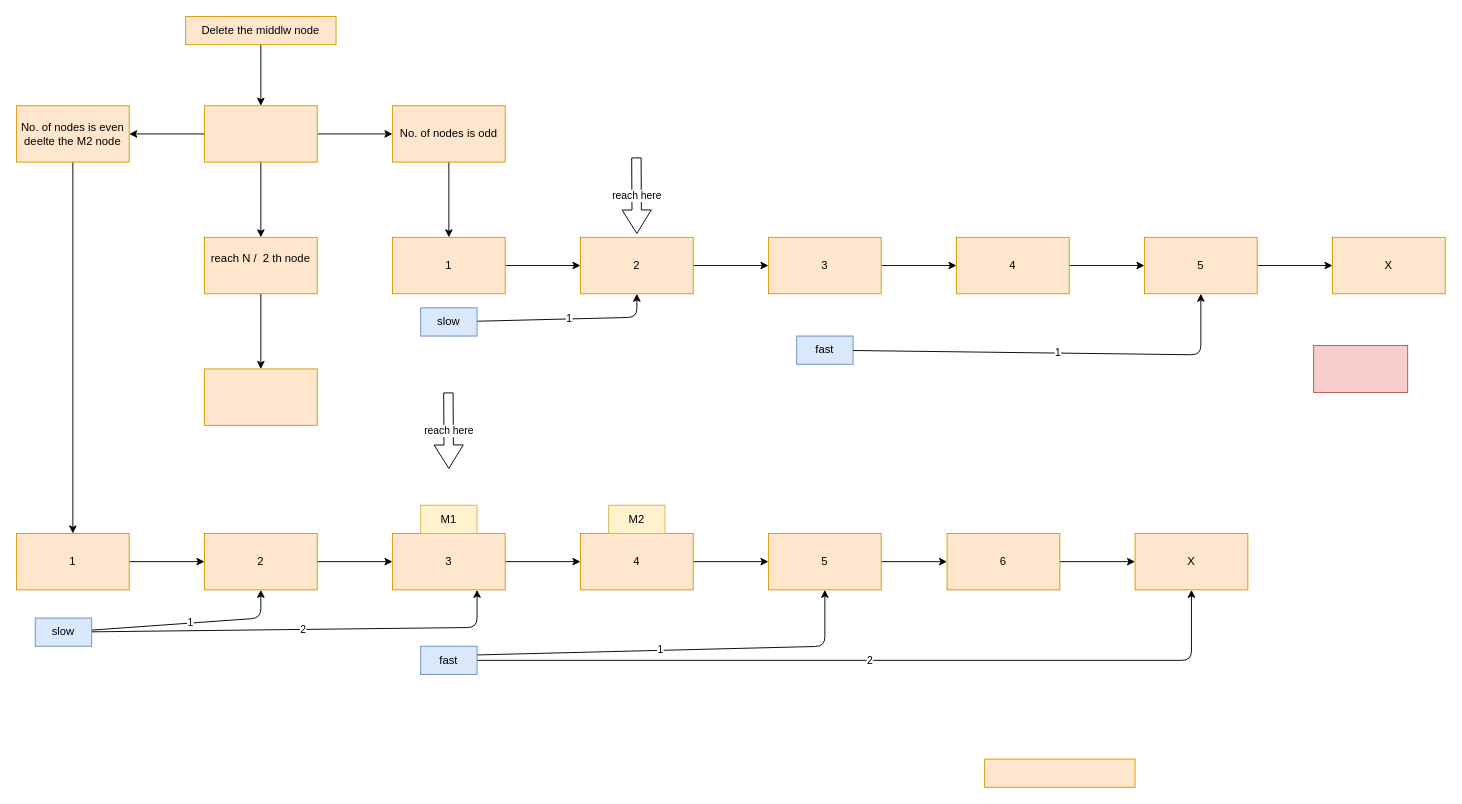
The diagram is 1462 pixels wide and 804 high, and some of its shapes have lost their labels. Here are the shapes that lost their labels. From the top down, the centre of each, then its label:
At (260,133): "reach before the middle node".
At (1360,368): "stop when fast.next is null".
At (260,396): "Use the brute force to reach there".
At (1059,772): "stop when fast.next.next is null".
